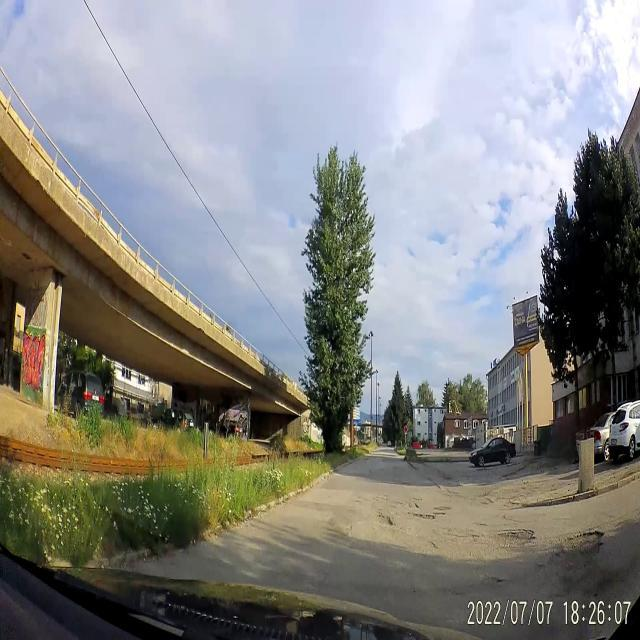Pothole: (548, 516, 608, 600), (484, 522, 534, 564), (480, 570, 510, 594), (422, 534, 446, 556), (399, 491, 422, 513), (374, 512, 396, 534), (408, 513, 436, 527), (365, 494, 391, 504), (429, 507, 448, 520), (362, 454, 372, 464), (398, 479, 412, 486)
